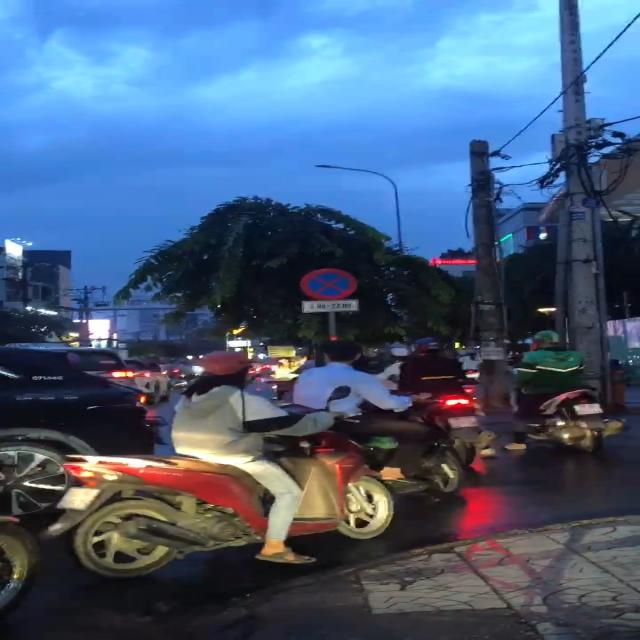Bien bao cam dung xe va do xe: (299, 265, 359, 300)
